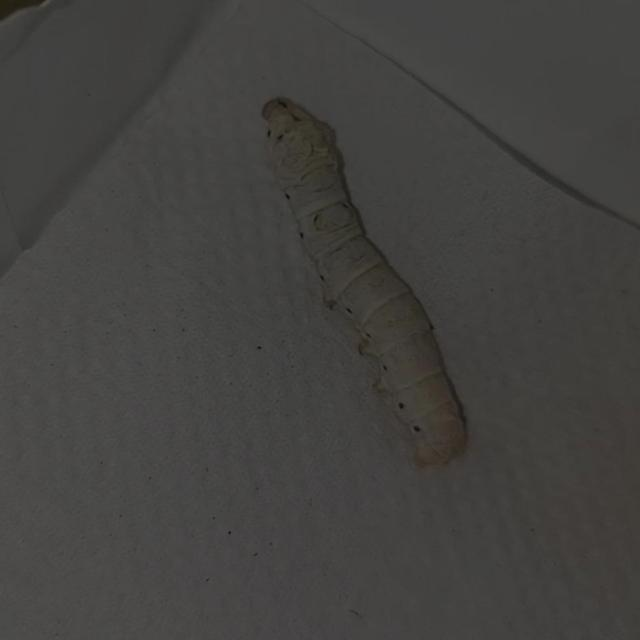Healthy: (238, 73, 516, 500)
